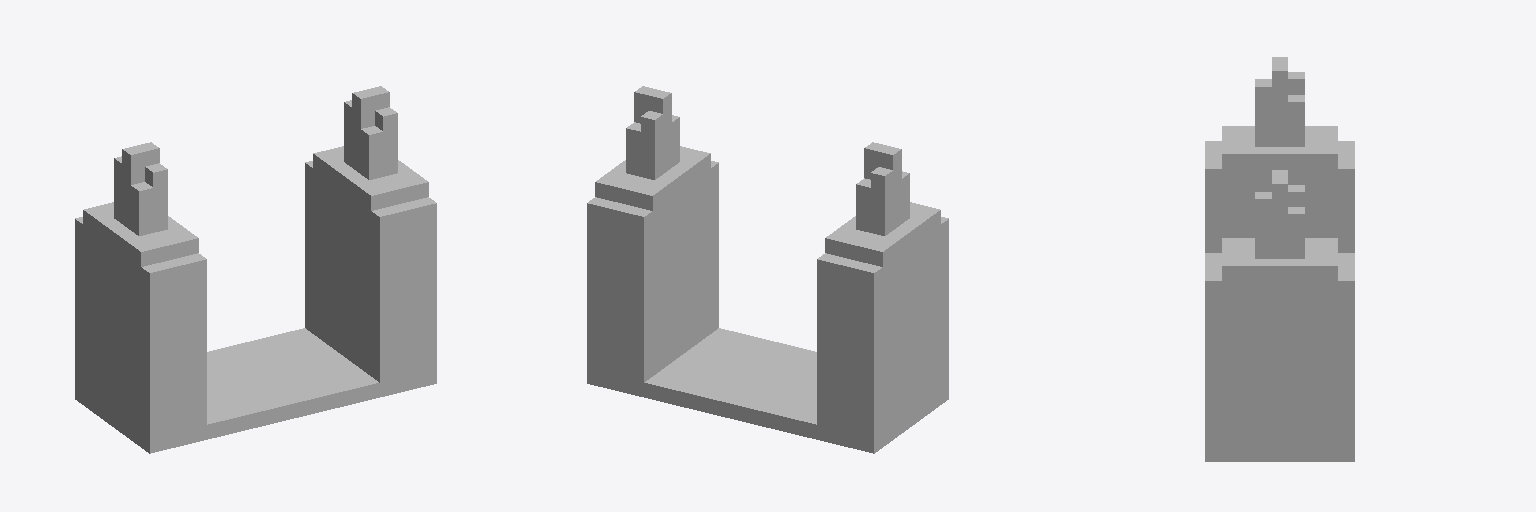
Rendered from iceDoor.obj.
3 views of the same model, side by side, from view 1: azimuth 30°, elevation 25°; view 2: azimuth 150°, elevation 25°; view 3: azimuth 270°, elevation 25° (orthographic).
Visible parts, largest first — view 1: iceDoor; view 2: iceDoor; view 3: iceDoor.
Part boxes in pixels (left/top/right/bottom): iceDoor: left=75, top=86, right=436, bottom=453; iceDoor: left=587, top=86, right=948, bottom=453; iceDoor: left=1205, top=57, right=1354, bottom=461.
Size of the model in its own units: 20 by 18 by 9.